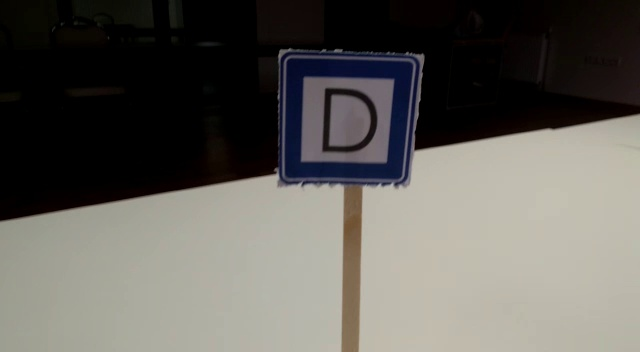durak: (276, 50, 424, 185)
